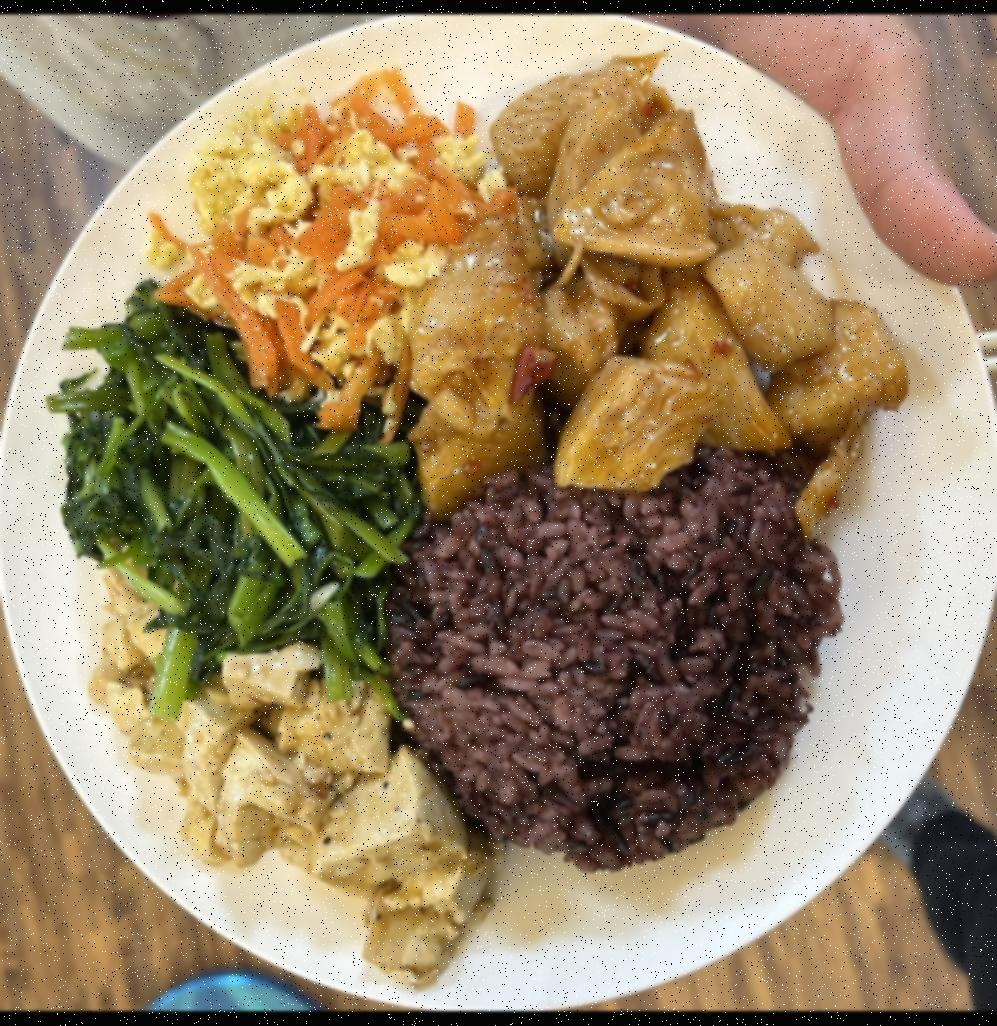plate: (0, 15, 997, 1001)
purple rice: (396, 459, 844, 864)
side dish: (86, 624, 492, 976), (53, 293, 413, 646), (148, 72, 482, 386)
spicy chicken: (404, 47, 906, 512)
